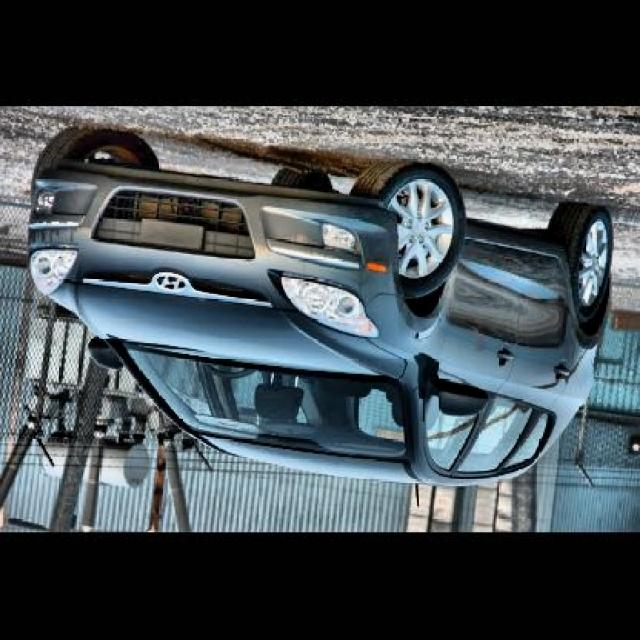black: (15, 157, 600, 492)
